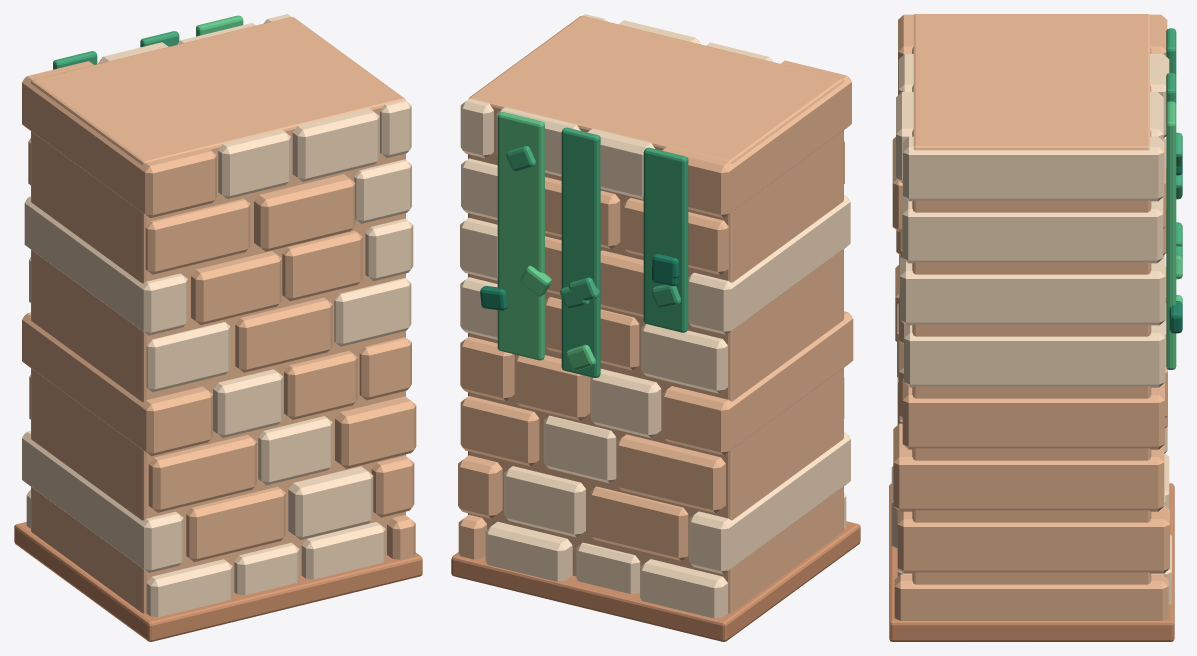
The model's file is ruin-wall.glb.
3 views of the same model, side by side, from view 1: azimuth 30°, elevation 25°; view 2: azimuth 150°, elevation 25°; view 3: azimuth 270°, elevation 25° (orthographic). The views are drawn at different scales.
Parts seen in each view (by area): view 1: ruin-wall; view 2: ruin-wall; view 3: ruin-wall.
Part boxes in pixels (box(x1,y1,x2,y2)): ruin-wall: box(14, 14, 422, 641); ruin-wall: box(451, 14, 860, 641); ruin-wall: box(889, 14, 1182, 641).
Bounding box in the file's own units: 1 × 1.65 × 0.885.
Materials: 1 (1 with a texture image).
